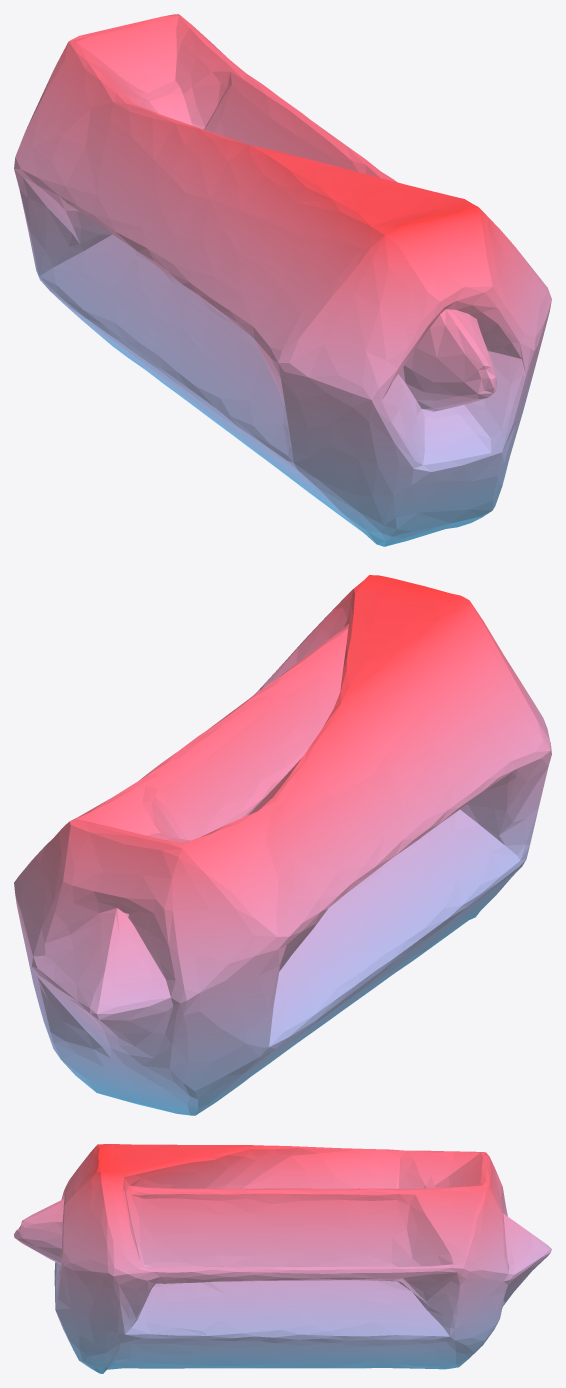
Rendered from 45_cyb_laser_gradient_fish_scales_2800_2026_10_03_d80f54.glb.
3 renders of one model, top to bottom at view 1: azimuth 30°, elevation 25°; view 2: azimuth 150°, elevation 25°; view 3: azimuth 270°, elevation 25°, orthographic. The views are drawn at different scales.
Parts seen in each view (by area): view 1: geometry_0; view 2: geometry_0; view 3: geometry_0.
Part boxes in pixels (x1,y1,x2,y2): geometry_0: [14, 14, 551, 546]; geometry_0: [14, 575, 551, 1115]; geometry_0: [14, 1144, 551, 1373].
Size of the model in its own units: 0.379 by 0.4199 by 0.997.
